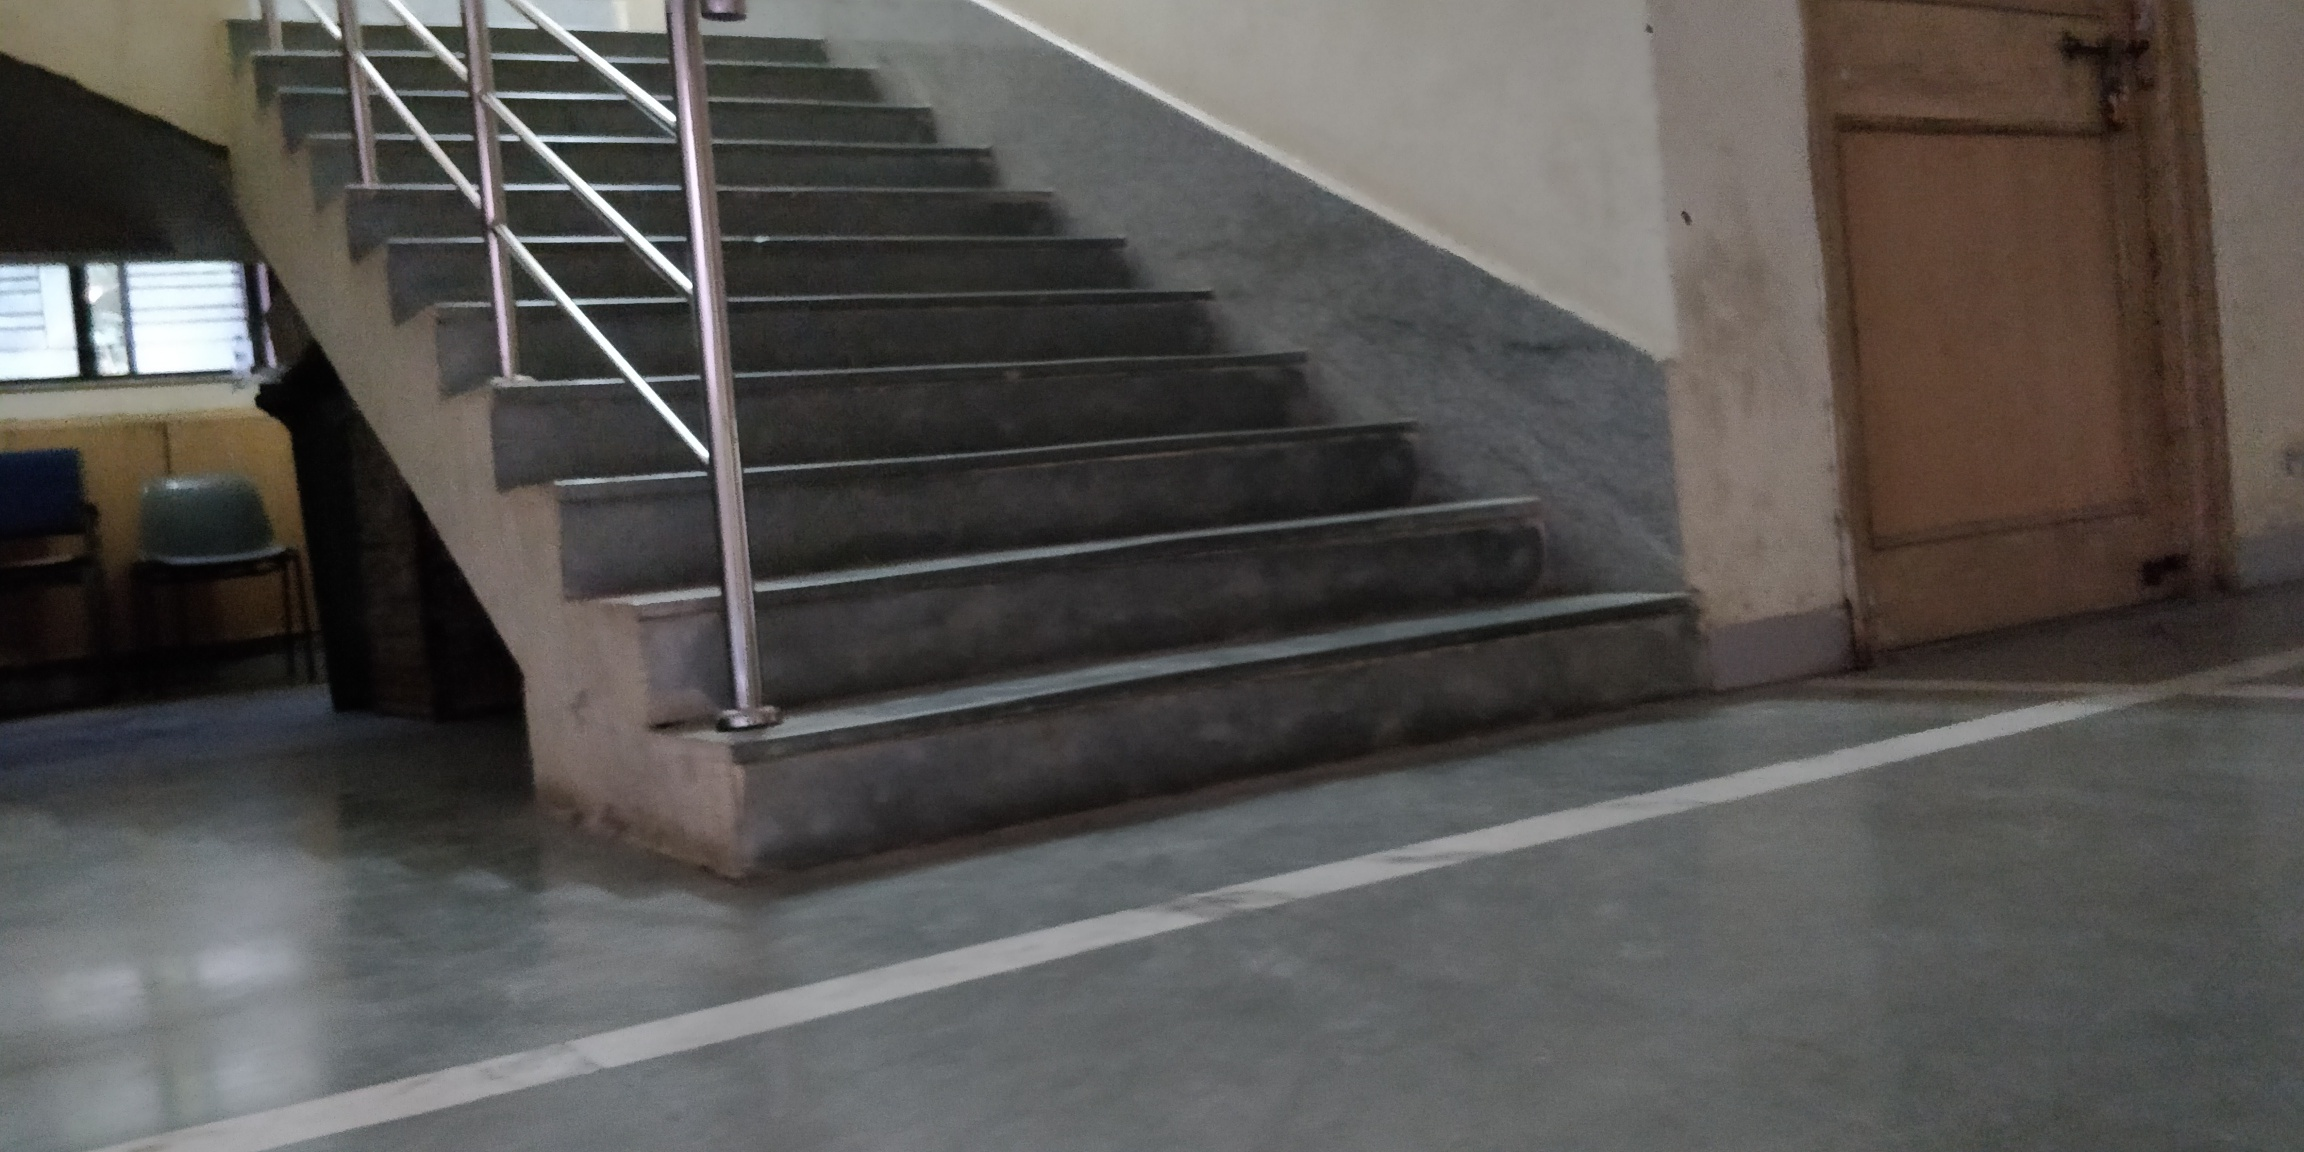stairs_up: (702, 34, 1646, 777)
